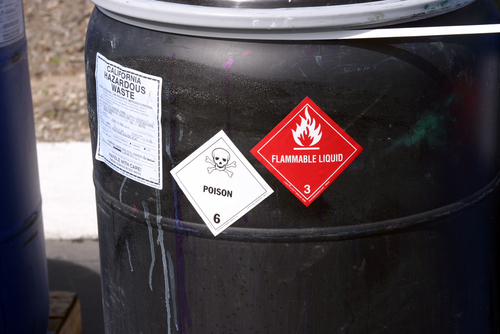FlammableLiquid: (260, 104, 360, 210)
